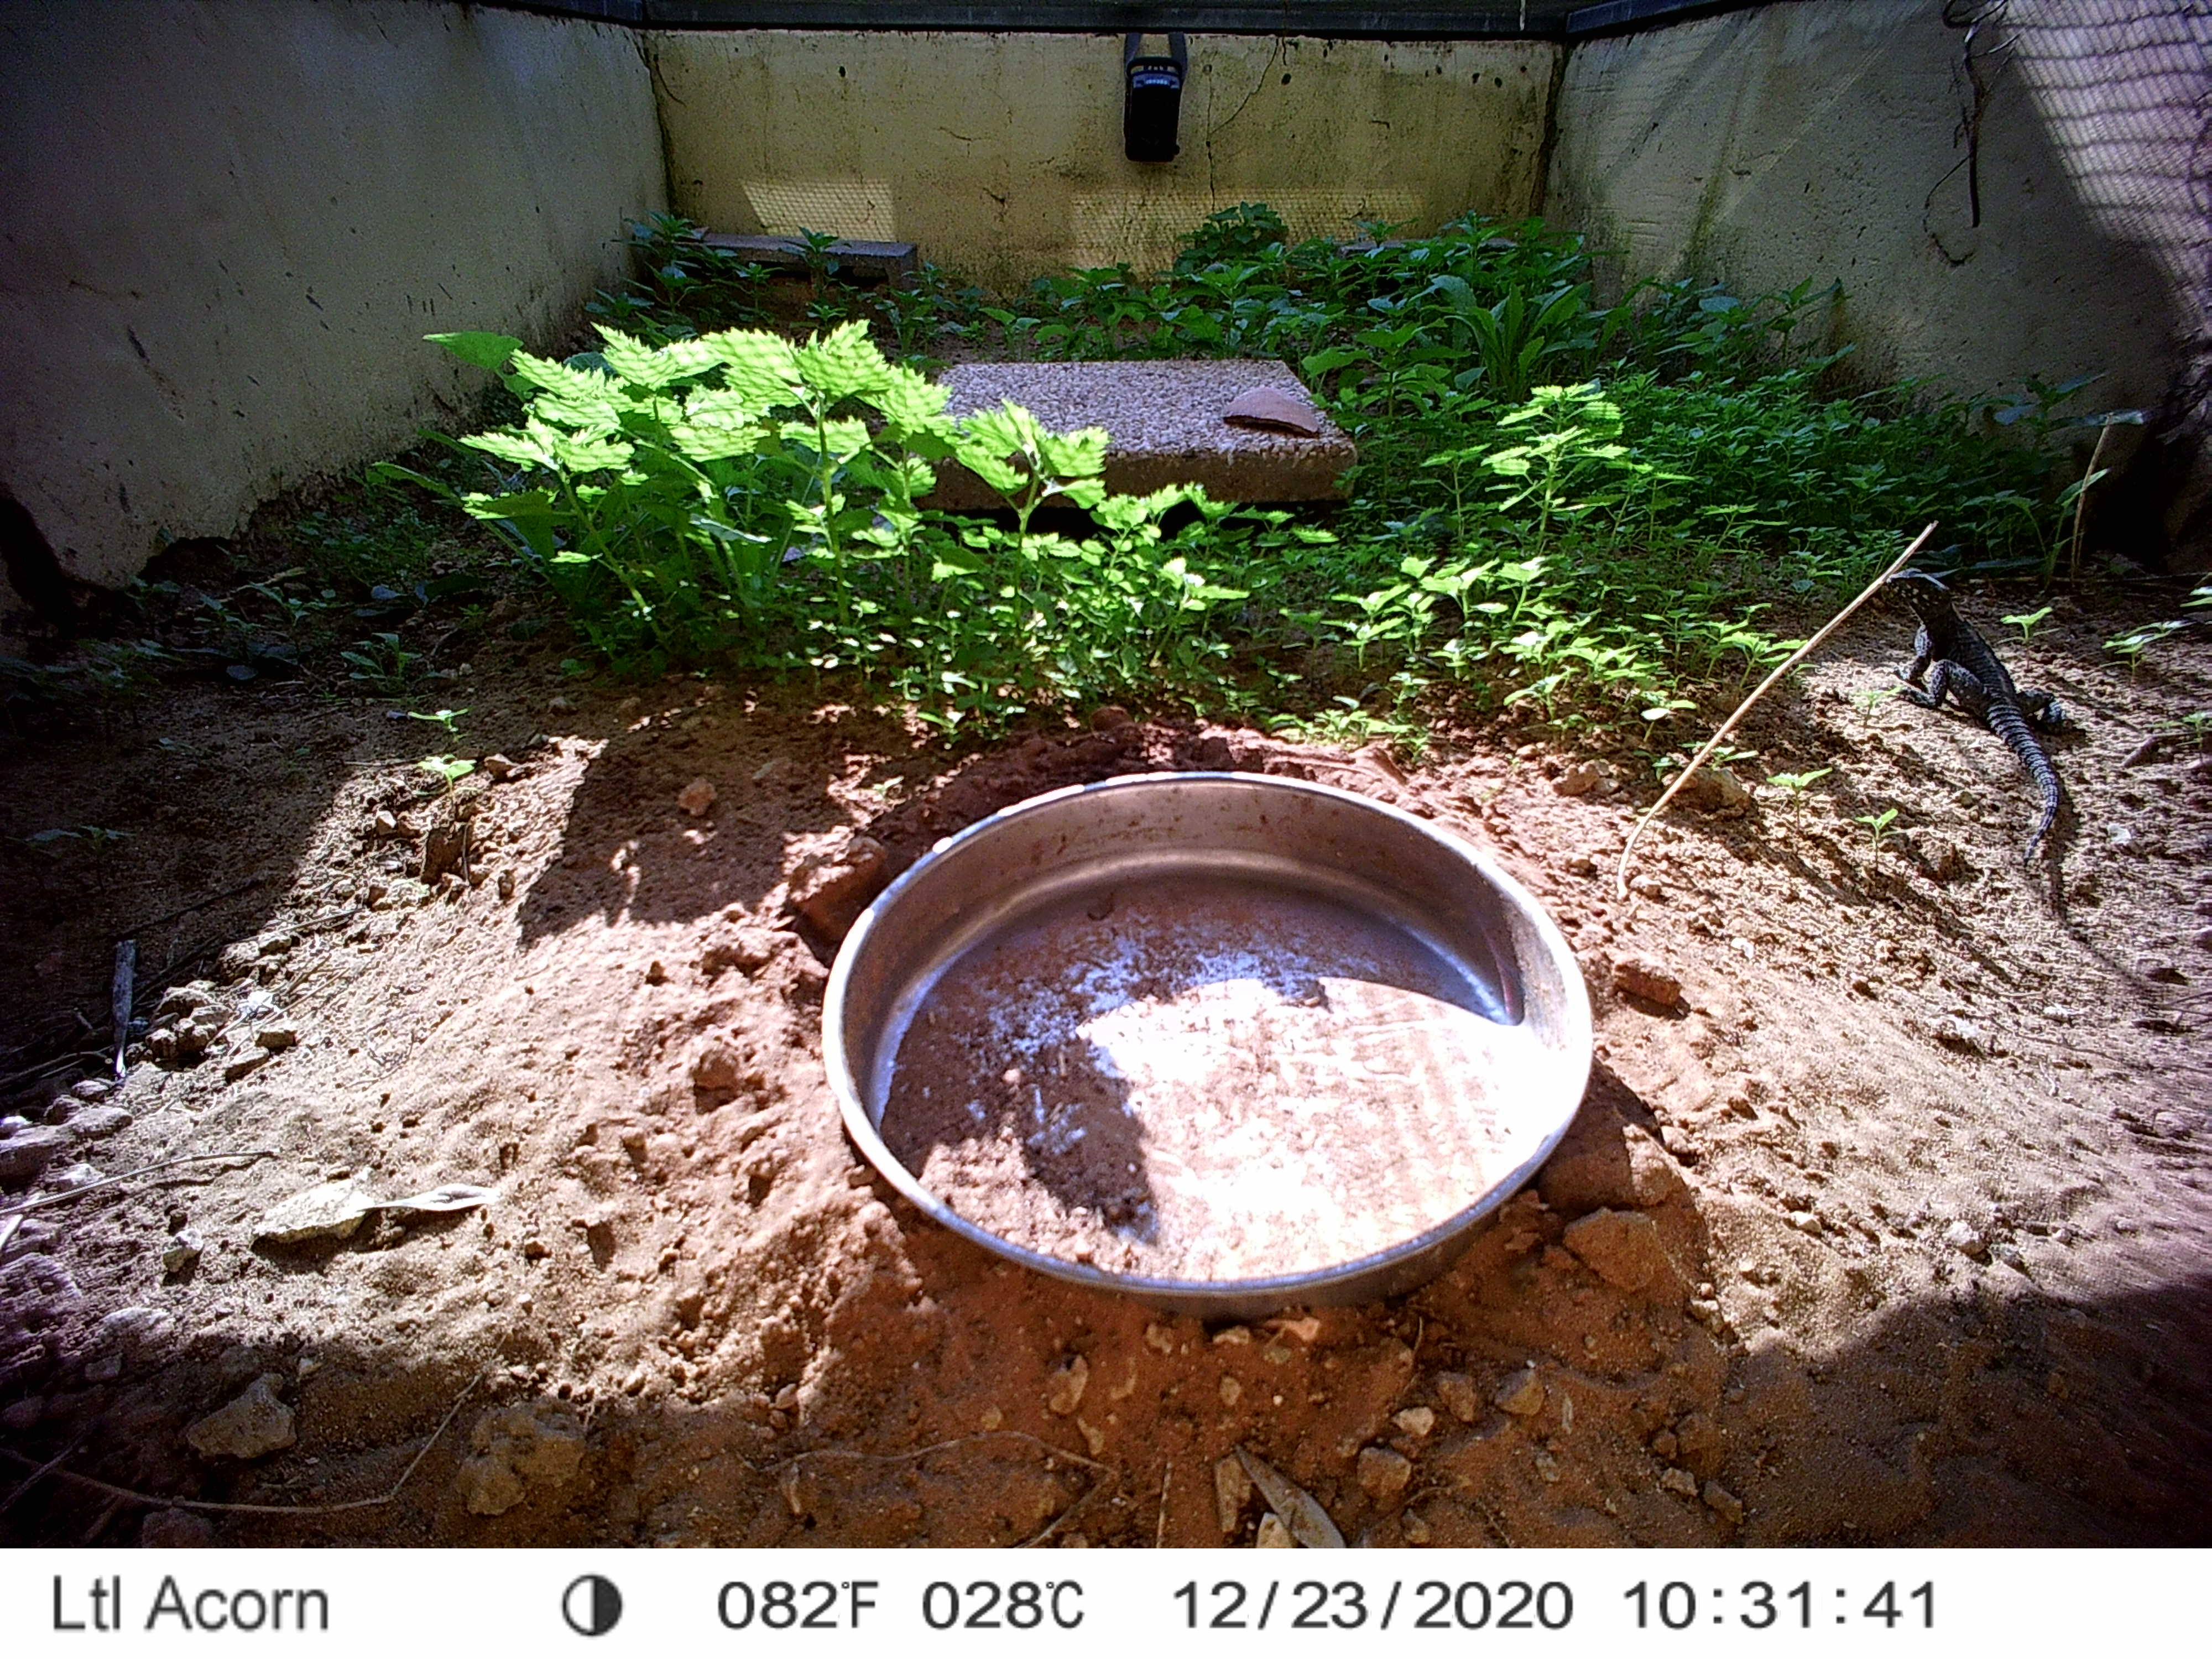lizard: (1881, 563, 2107, 880)
